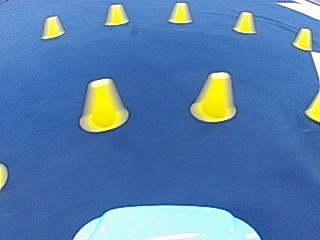cone: (79, 77, 127, 132), (191, 71, 237, 122), (41, 15, 64, 39), (104, 3, 128, 26), (232, 11, 255, 34), (168, 2, 192, 24), (304, 88, 319, 122), (291, 27, 312, 50)
